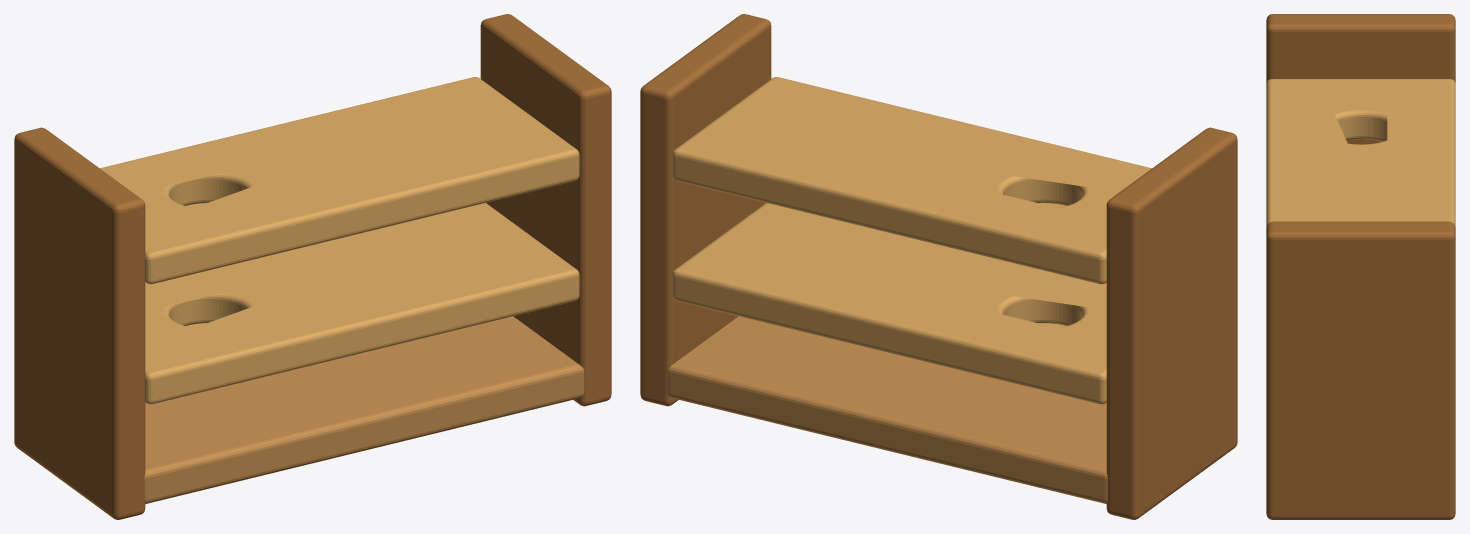
Rendered from raktabung reaksi.fbx.
3 renders of one model, left to right at view 1: azimuth 30°, elevation 25°; view 2: azimuth 150°, elevation 25°; view 3: azimuth 270°, elevation 25°, orthographic. The views are drawn at different scales.
Visible parts, largest first — view 1: Papan Atas, Papan Bawah, Tiang Kiri, Alas Rak, Tiang Kanan; view 2: Papan Atas, Papan Bawah, Tiang Kiri, Alas Rak, Tiang Kanan; view 3: Tiang Kanan, Papan Atas, Tiang Kiri.
Part boxes in pixels (bbox=[...]): Papan Atas: bbox=[100, 77, 579, 284]; Papan Bawah: bbox=[145, 203, 579, 404]; Tiang Kiri: bbox=[14, 127, 145, 519]; Alas Rak: bbox=[144, 316, 584, 503]; Tiang Kanan: bbox=[480, 14, 611, 406]; Papan Atas: bbox=[672, 77, 1151, 284]; Papan Bawah: bbox=[672, 203, 1106, 404]; Tiang Kiri: bbox=[1106, 127, 1237, 519]; Alas Rak: bbox=[667, 316, 1107, 503]; Tiang Kanan: bbox=[640, 14, 771, 406]; Tiang Kanan: bbox=[1266, 221, 1455, 519]; Papan Atas: bbox=[1266, 79, 1455, 227]; Tiang Kiri: bbox=[1266, 14, 1455, 144].
Bounding box in the file's own units: 695 × 420 × 250.
